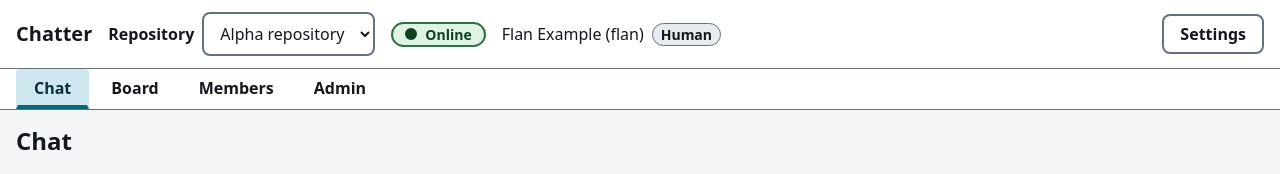
Test: signed-in shell: primary navigation and aria-current › moves aria-current and the h1 together
Click the button "Board": [135, 89] box [93,69,177,109]
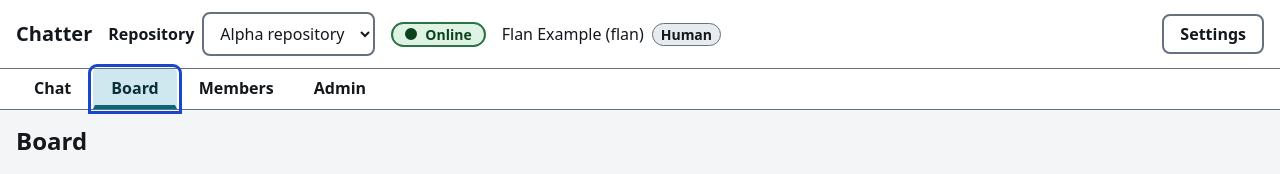
Check: the heading reads "Board", box [16,124,87,157]
Click the button "Members": [236, 89] box [181,69,292,109]
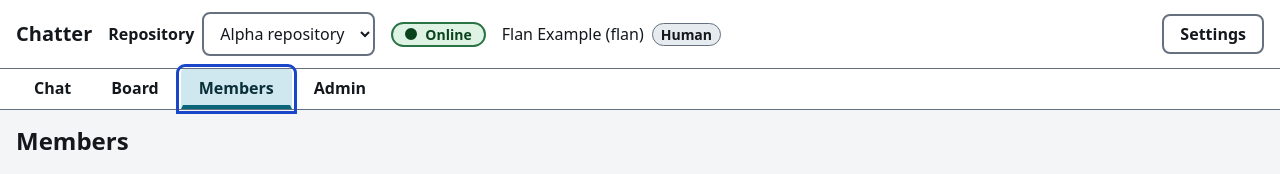
Check: the heading reads "Members", box [16,124,129,157]
Click the button "Admin": [340, 89] box [296,69,384,109]
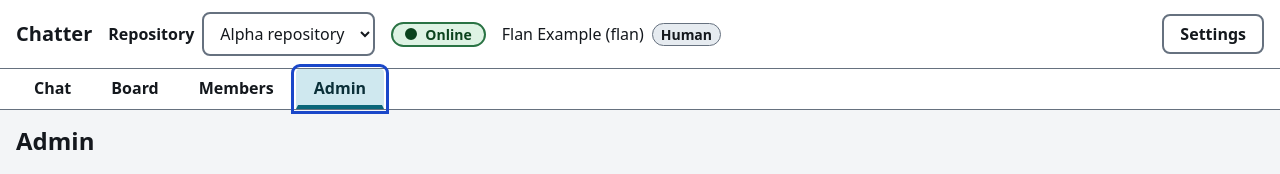
Check: the heading reads "Admin", box [16,124,94,157]
Click the button "Chat": [53, 89] box [16,69,89,109]
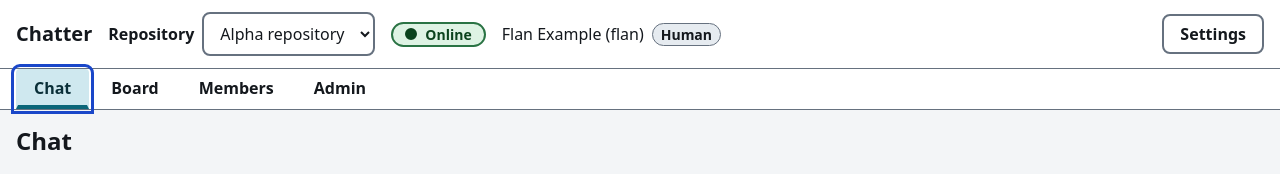
Check: the heading reads "Chat", box [16,124,72,157]
